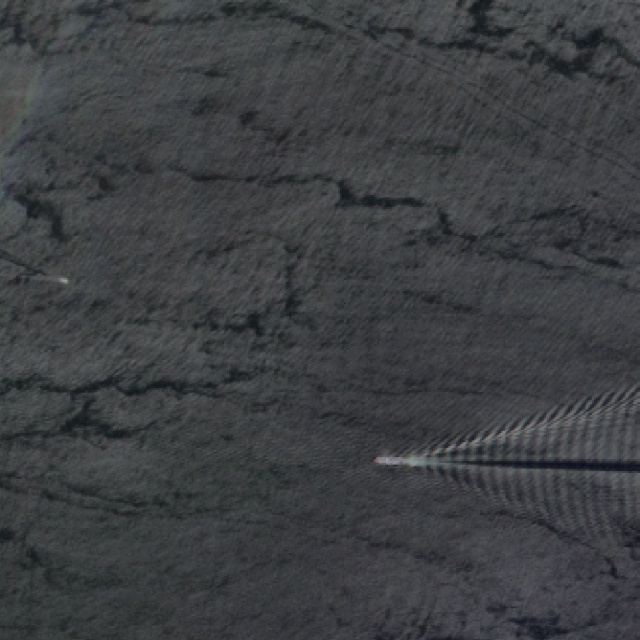wake: (371, 397, 591, 524)
